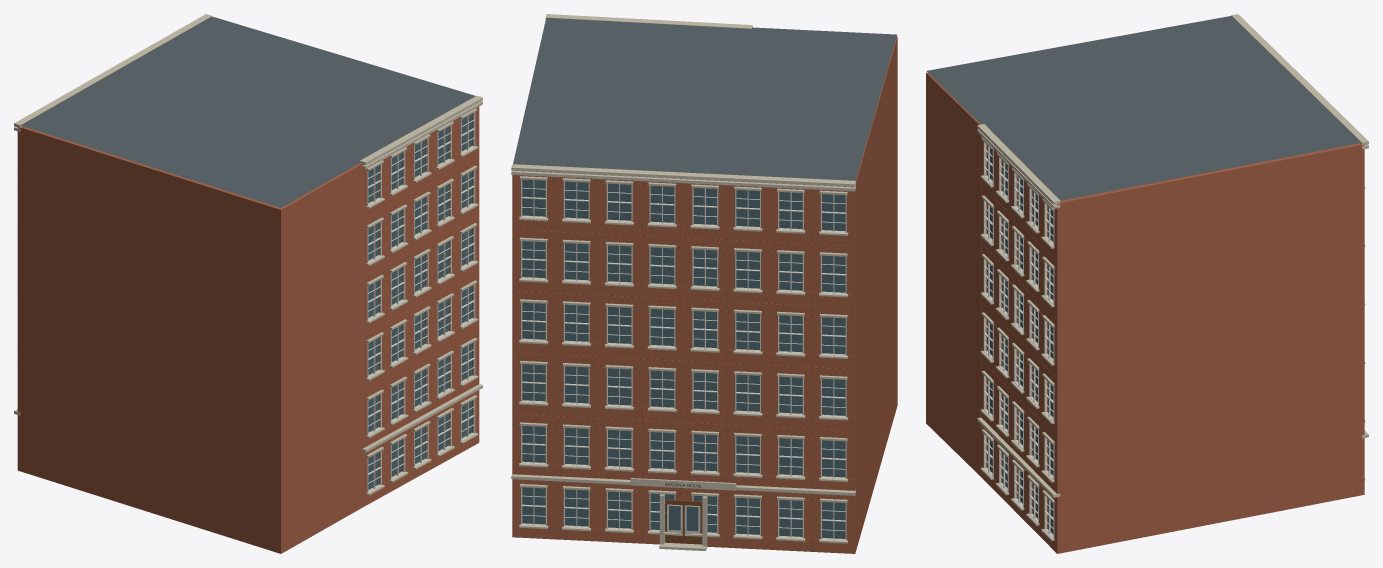
File: sar-exterior-b4fbd5aef8dc.glb
3 renders of one model, left to right at view 1: azimuth 30°, elevation 25°; view 2: azimuth 150°, elevation 25°; view 3: azimuth 270°, elevation 25°, orthographic. The views are drawn at different scales.
Visible parts, largest first — view 1: SAR.001; view 2: SAR.001; view 3: SAR.001.
Part boxes in pixels (<box>): SAR.001: <box>14,14,482,553</box>; SAR.001: <box>511,14,897,553</box>; SAR.001: <box>926,14,1368,553</box>.
Bounding box in the file's own units: 26.44 × 23.15 × 26.32.
